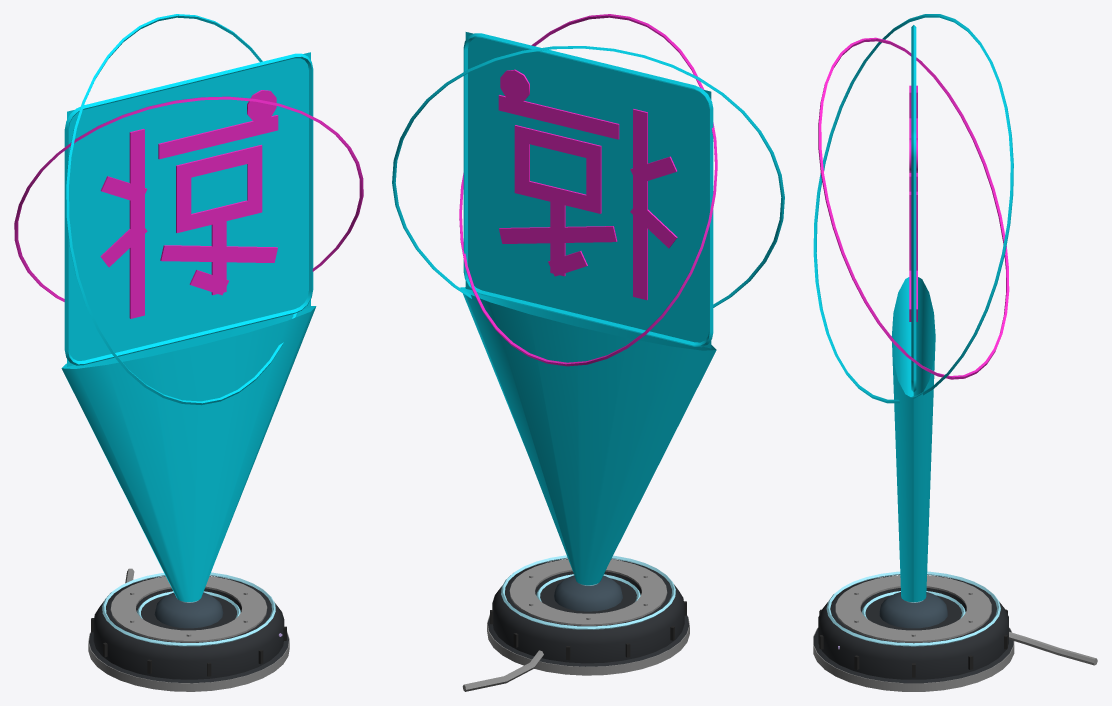
Rendered from Holo_Sign_Glyph.fbx.
The picture shows the model from 3 angles, left to right: view 1: azimuth 30°, elevation 25°; view 2: azimuth 150°, elevation 25°; view 3: azimuth 270°, elevation 25°; orthographic projection.
Visible parts, largest first — view 1: Holo_Sign_Glyph_LOD0; view 2: Holo_Sign_Glyph_LOD0; view 3: Holo_Sign_Glyph_LOD0.
Part boxes in pixels (x1,y1,x2,y2): Holo_Sign_Glyph_LOD0: (14,14,363,691); Holo_Sign_Glyph_LOD0: (392,14,784,691); Holo_Sign_Glyph_LOD0: (813,14,1097,691).
Size of what is drawn, in the model's own units: 1.15 by 2.15 by 0.9071.
